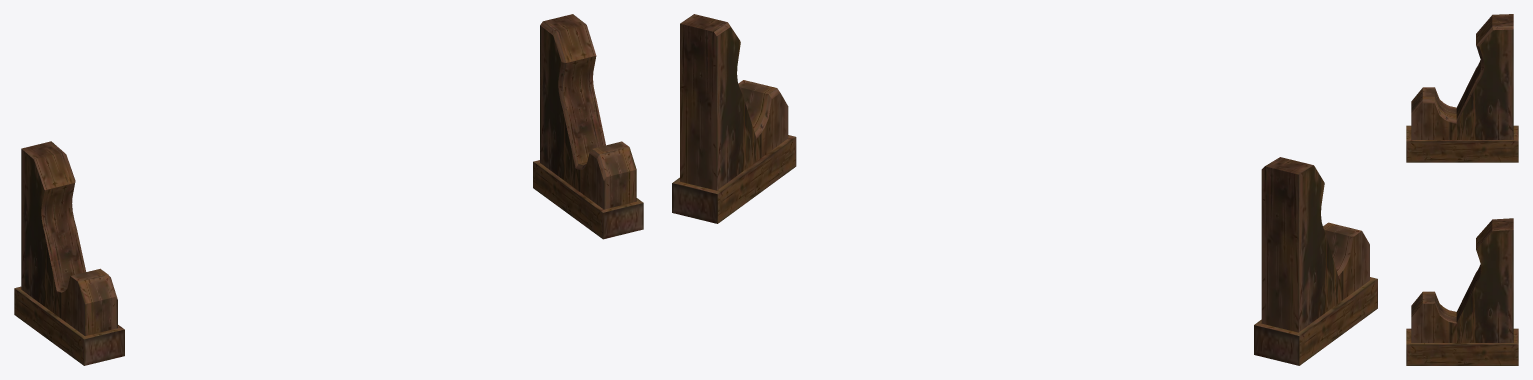
The model's file is Shelf_Sword_Worn.glb.
3 views of the same model, side by side, from view 1: azimuth 30°, elevation 25°; view 2: azimuth 150°, elevation 25°; view 3: azimuth 270°, elevation 25° (orthographic). The views are drawn at different scales.
Visible parts, largest first — view 1: Shelf_Sword; view 2: Shelf_Sword; view 3: Shelf_Sword.
Boxes of the visible parts, x1,y1,x2,y2 form: Shelf_Sword: [14, 14, 643, 365]; Shelf_Sword: [672, 14, 1377, 365]; Shelf_Sword: [1406, 14, 1518, 365].
Bounding box in the file's own units: 0.9473 × 0.2709 × 0.2051.
Materials: 1 (1 with a texture image).
